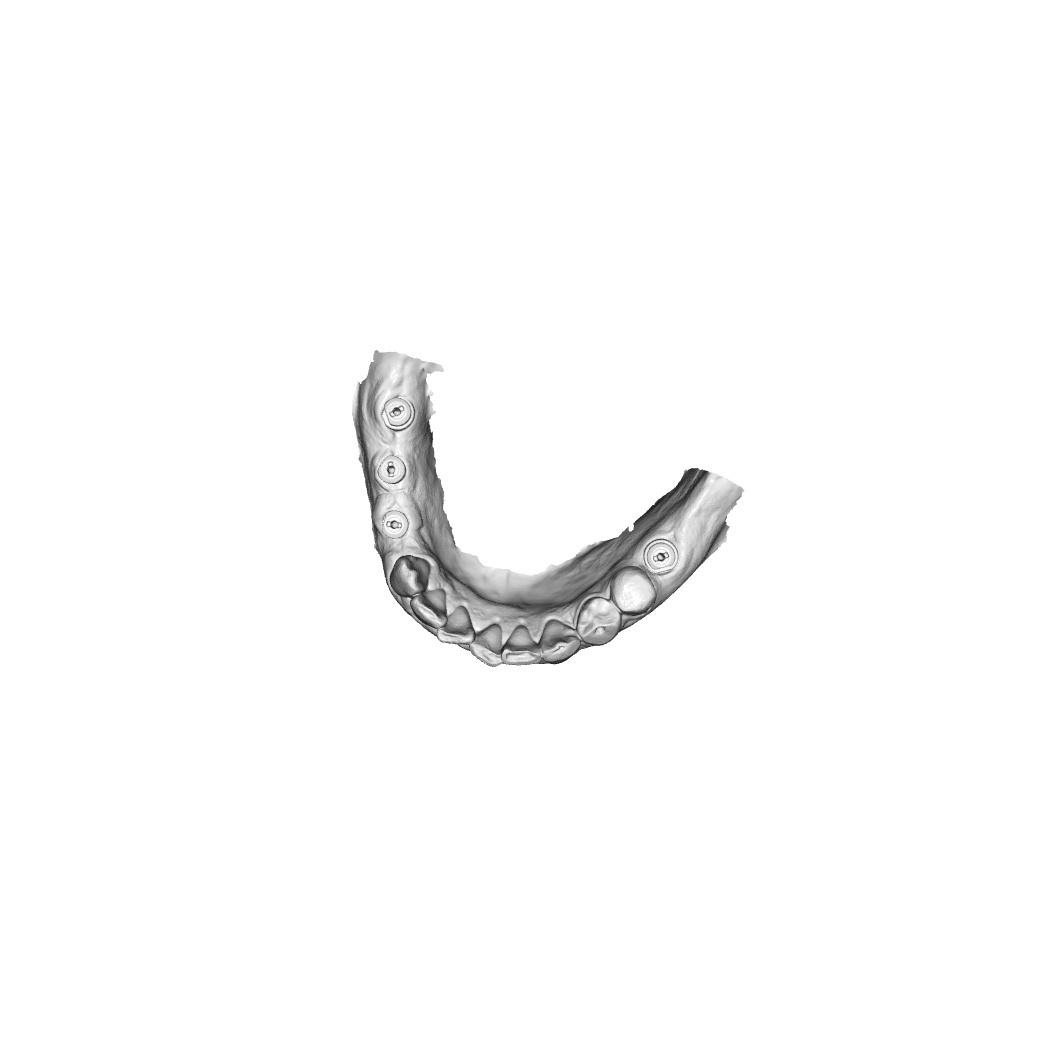canine: (538, 617, 583, 665), (389, 554, 431, 598)
implant_minus: (380, 395, 416, 432), (643, 538, 679, 575), (376, 454, 409, 486), (380, 509, 410, 539)
incisor: (499, 624, 544, 666), (435, 604, 476, 645), (410, 587, 448, 630), (468, 622, 503, 668)
premolar: (609, 565, 658, 616), (575, 596, 622, 647)
